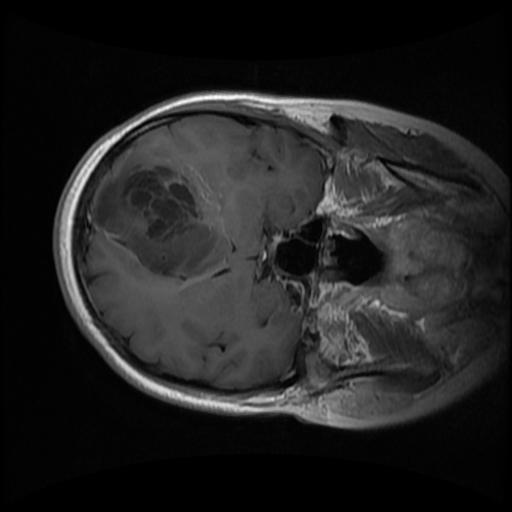glioma: (92, 161, 230, 292)
